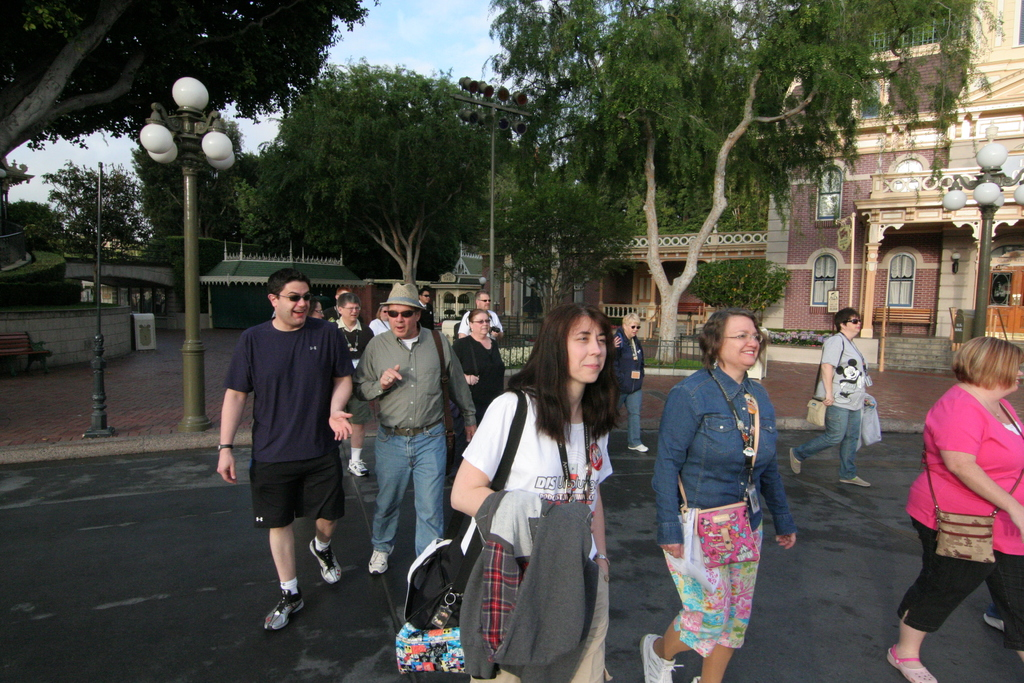Footwear: (638, 631, 689, 682), (879, 641, 938, 682), (264, 586, 307, 631), (312, 539, 352, 583), (345, 447, 369, 478), (366, 547, 392, 573), (790, 446, 807, 473), (984, 612, 1004, 633), (836, 477, 867, 487), (626, 443, 652, 452)
